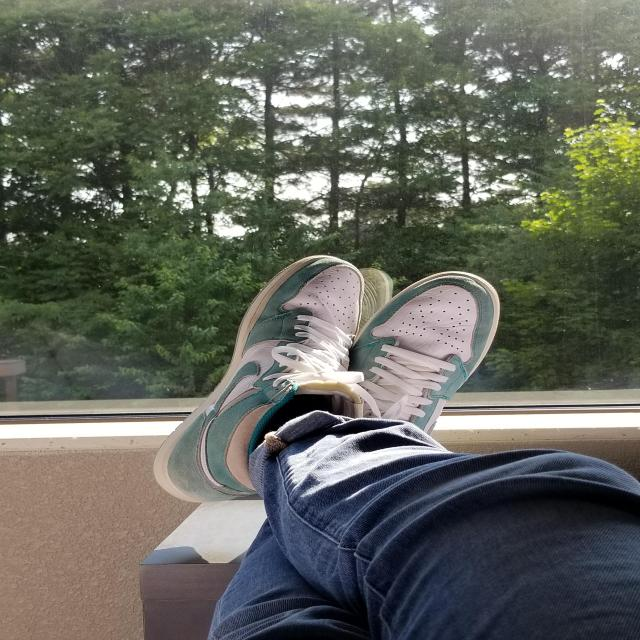shoe: (154, 255, 361, 503), (350, 268, 502, 452)
